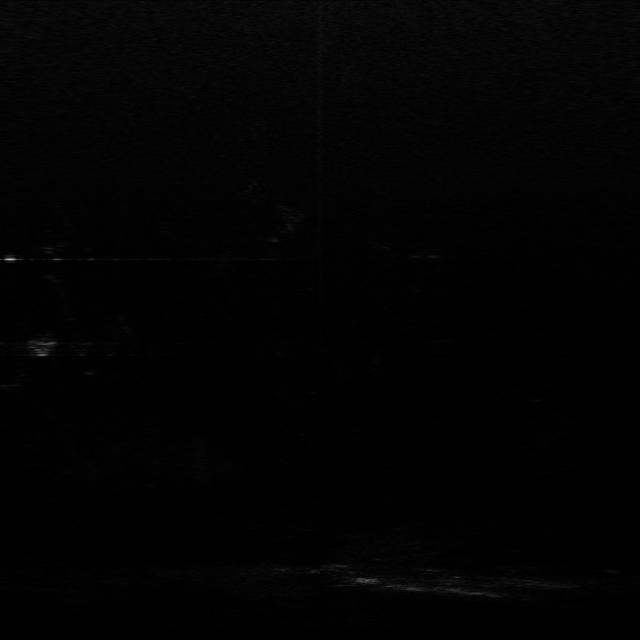rov: (27, 335, 58, 359)
